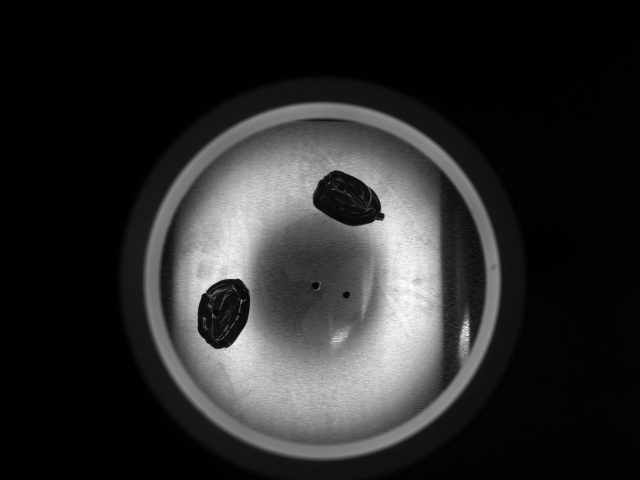zang_wu: (307, 165, 389, 229), (195, 278, 253, 350)
zhen_kong: (308, 278, 322, 291), (340, 287, 352, 300)
